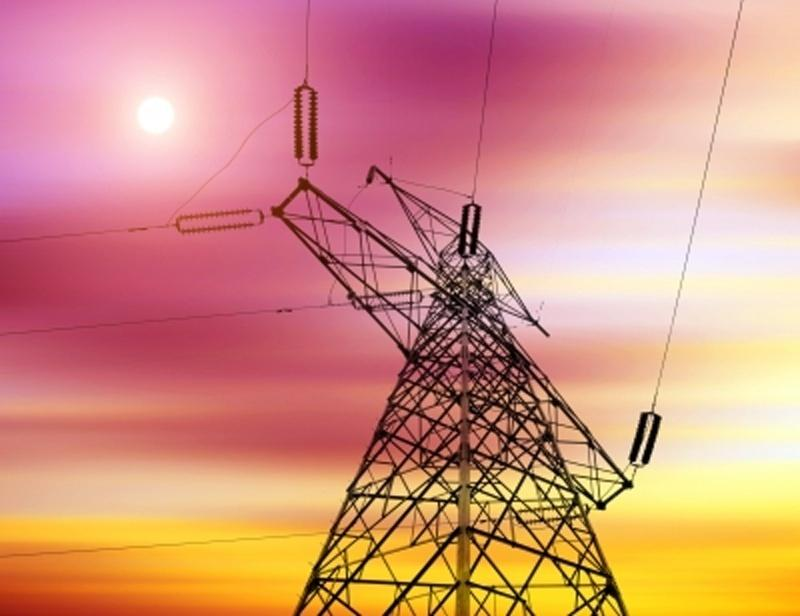power_tower: (263, 164, 635, 611)
